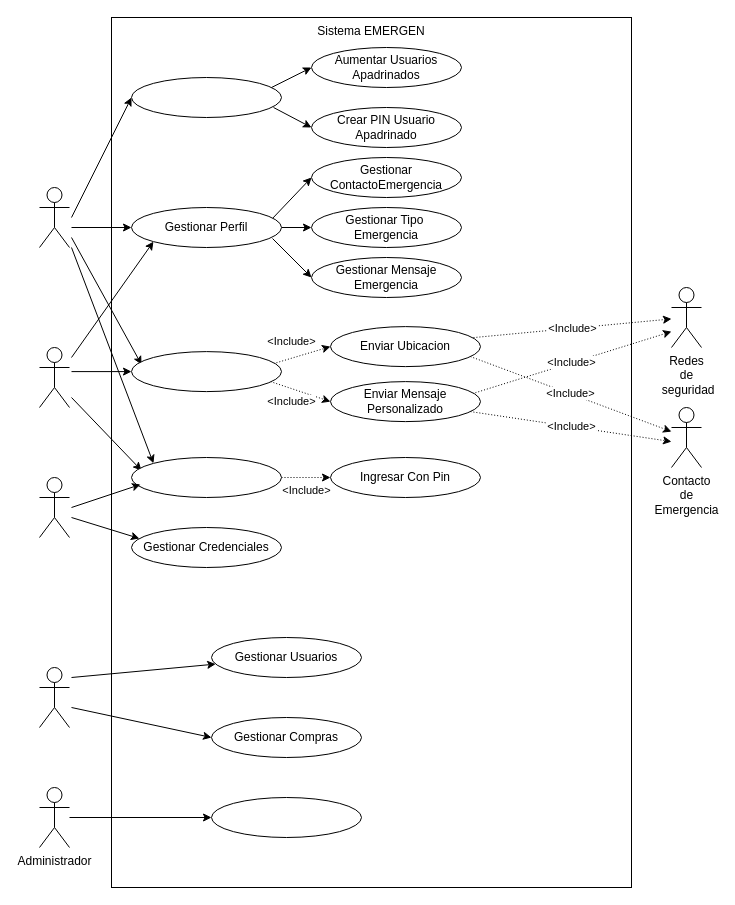
Image size: 735x905. Some labels were removed from this diagram. The centre of each missing label's shape, as x and y in pixels:
"Generar Alerta" goes at pixel 206 371.
"Gestionar Trabjadores" goes at pixel 286 817.
"Gestionar Usuario Apadrinado" goes at pixel 206 97.
"Iniciar Sesión" goes at pixel 206 477.
"Soporte" goes at pixel 54 697.
"Usuario Apadrinado" goes at pixel 54 377.
"Usuario Principal" goes at pixel 54 217.
"Usuario Sin Premium" goes at pixel 54 507.
